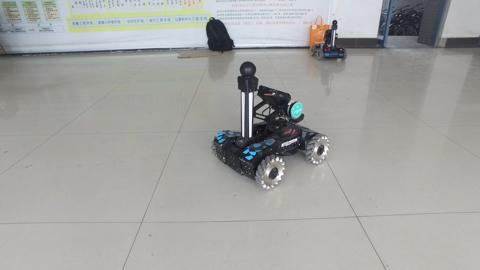bag: (204, 15, 237, 54), (309, 14, 331, 47)
chariot: (209, 59, 330, 191), (309, 17, 348, 62)
